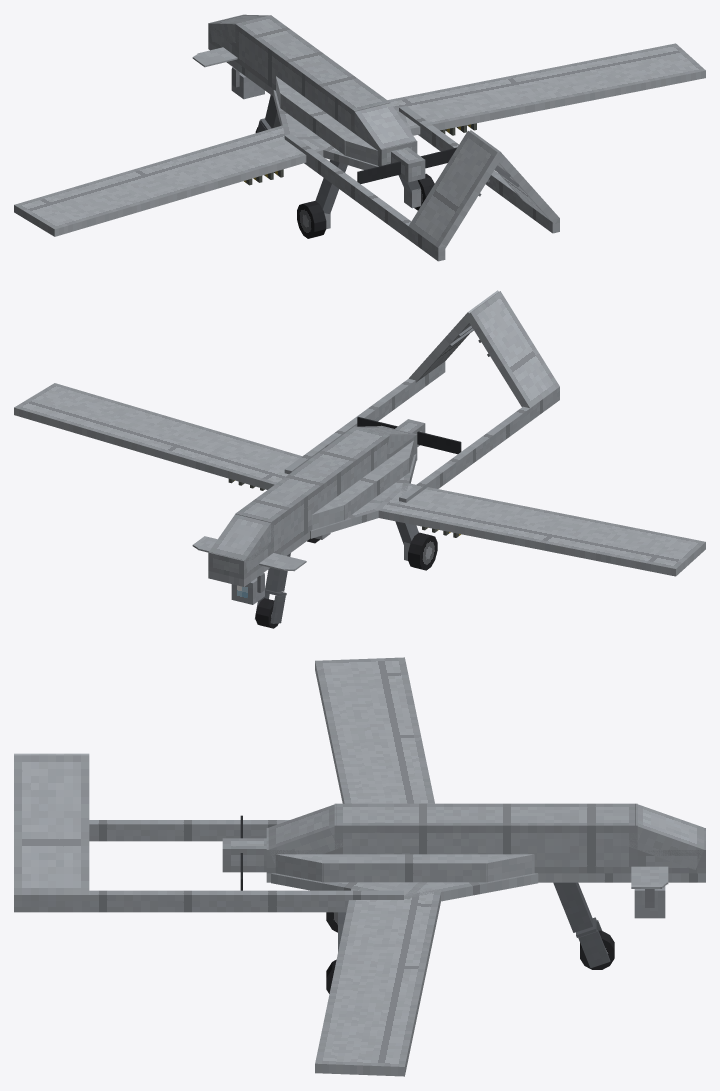
Rendered from bayraktar.glb.
3 renders of one model, top to bottom at view 1: azimuth 30°, elevation 25°; view 2: azimuth 150°, elevation 25°; view 3: azimuth 270°, elevation 25°, orthographic. The views are drawn at different scales.
Visible parts, largest first — view 1: airframe, prop1; view 2: airframe, prop1; view 3: airframe.
Part boxes in pixels (box(x1,y1,x2,y2)): airframe: box(14, 14, 705, 261); prop1: box(357, 147, 457, 183); airframe: box(14, 290, 705, 628); prop1: box(357, 416, 461, 454); airframe: box(14, 657, 705, 1076).
Size of the model in its own units: 5.78 by 1.39 by 4.13.
1 material, 1 textured.
